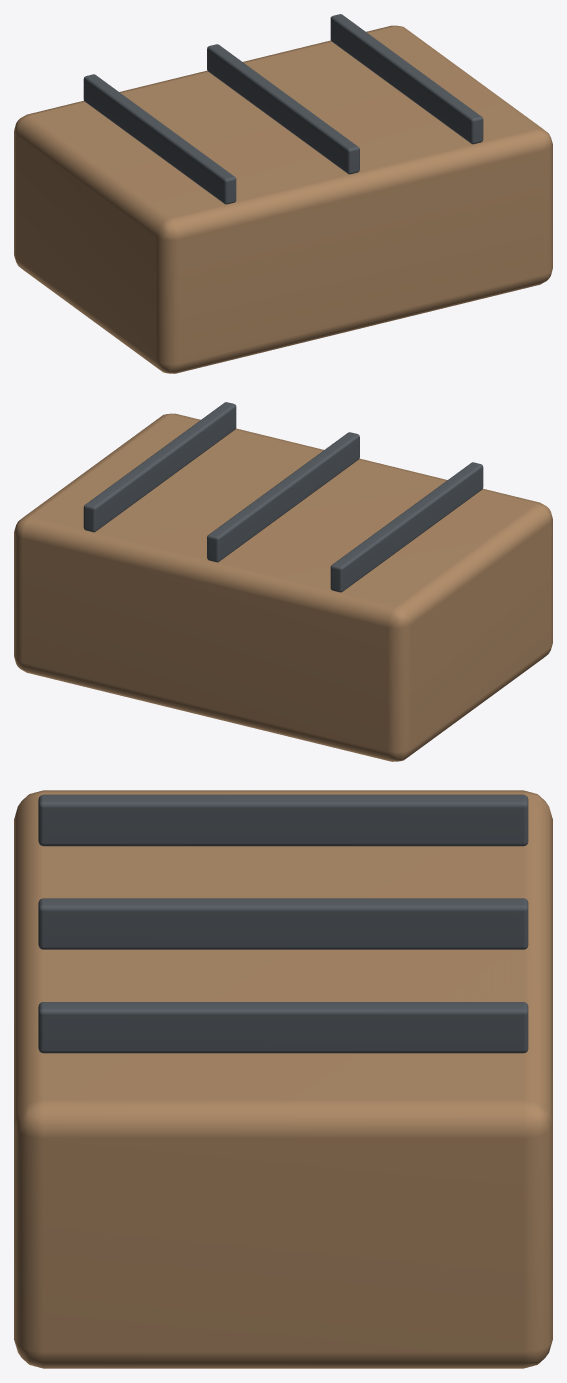
Rendered from atelier-decorative-tray.glb.
The picture shows the model from 3 angles, top to bottom: view 1: azimuth 30°, elevation 25°; view 2: azimuth 150°, elevation 25°; view 3: azimuth 270°, elevation 25°; orthographic projection. The views are drawn at different scales.
Visible parts, largest first — view 1: legs.146, metal.106; view 2: legs.146, metal.106; view 3: legs.146, metal.106.
Boxes of the visible parts, x1,y1,x2,y2 form: legs.146: [14, 25, 552, 373]; metal.106: [83, 14, 483, 204]; legs.146: [14, 413, 552, 761]; metal.106: [83, 402, 483, 592]; legs.146: [14, 790, 552, 1368]; metal.106: [38, 794, 528, 1053].
Bounding box in the file's own units: 0.32 × 0.14 × 0.22.
